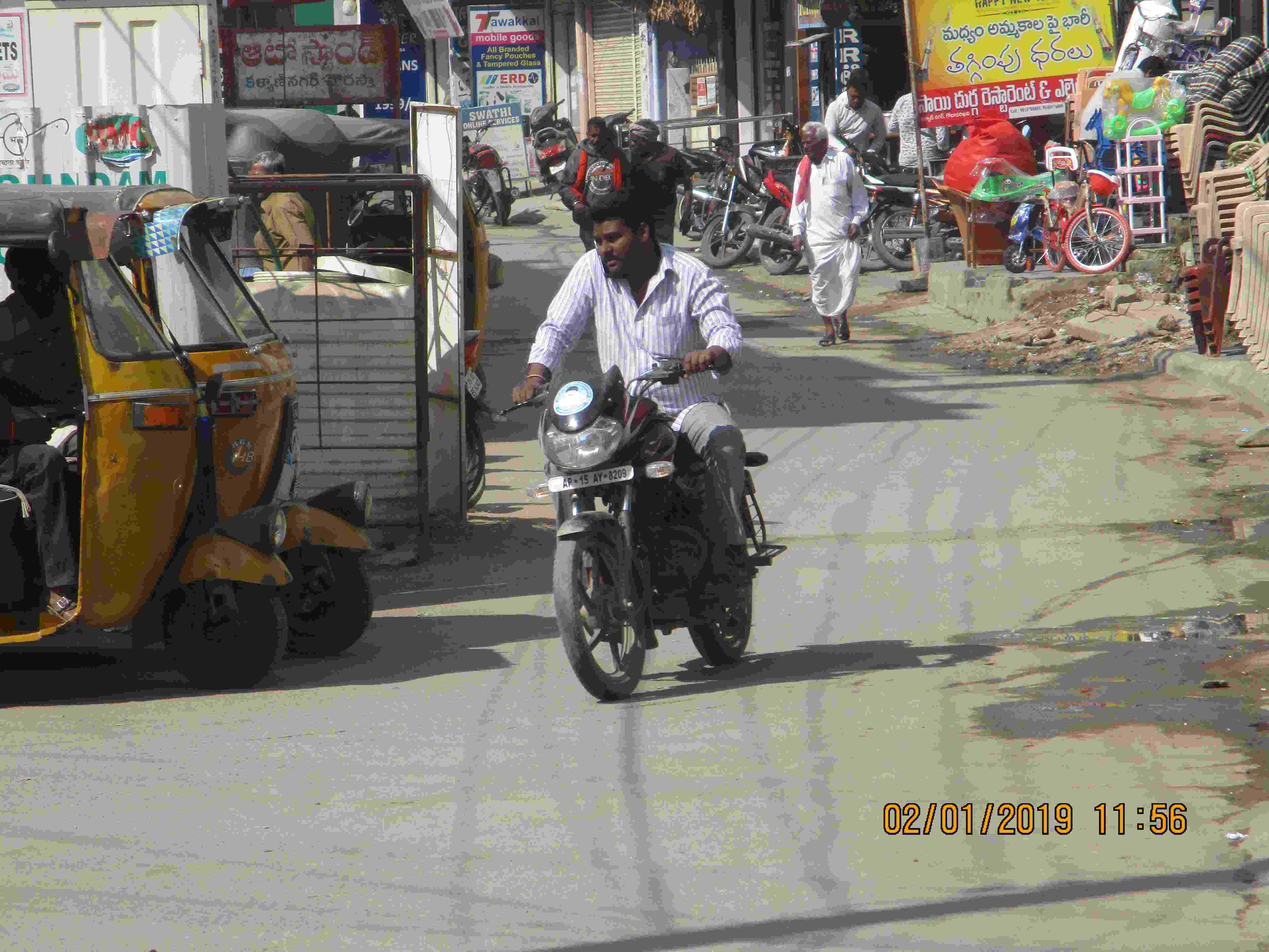plate: (538, 462, 641, 495)
